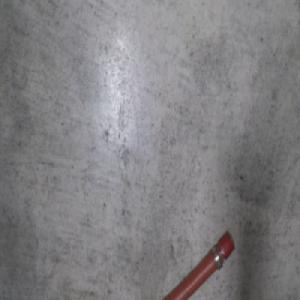Hose: (161, 227, 235, 300)
